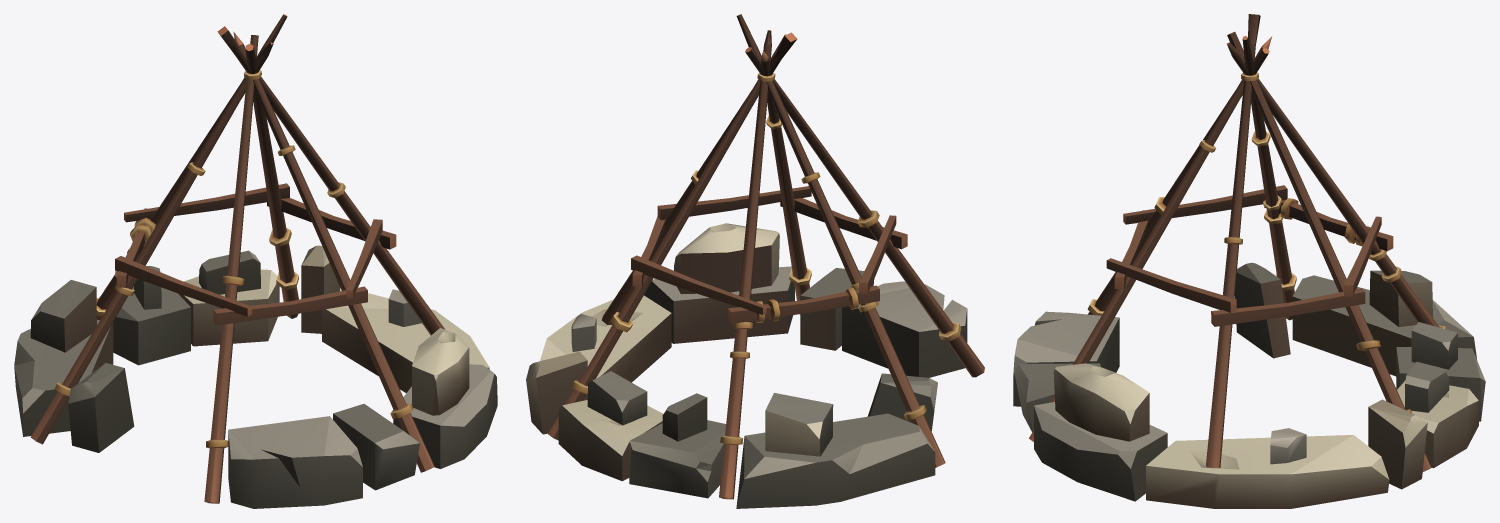
Rendered from Hut_3D.fbx.
3 renders of one model, left to right at view 1: azimuth 30°, elevation 25°; view 2: azimuth 150°, elevation 25°; view 3: azimuth 270°, elevation 25°, orthographic.
Visible parts, largest first — view 1: Hut_3D; view 2: Hut_3D; view 3: Hut_3D.
Part boxes in pixels (box(x1,y1,x2,y2)): Hut_3D: box(14, 14, 497, 508); Hut_3D: box(526, 14, 984, 508); Hut_3D: box(1013, 14, 1485, 508).
Bounding box in the file's own units: 5.73 × 5.31 × 5.82.
